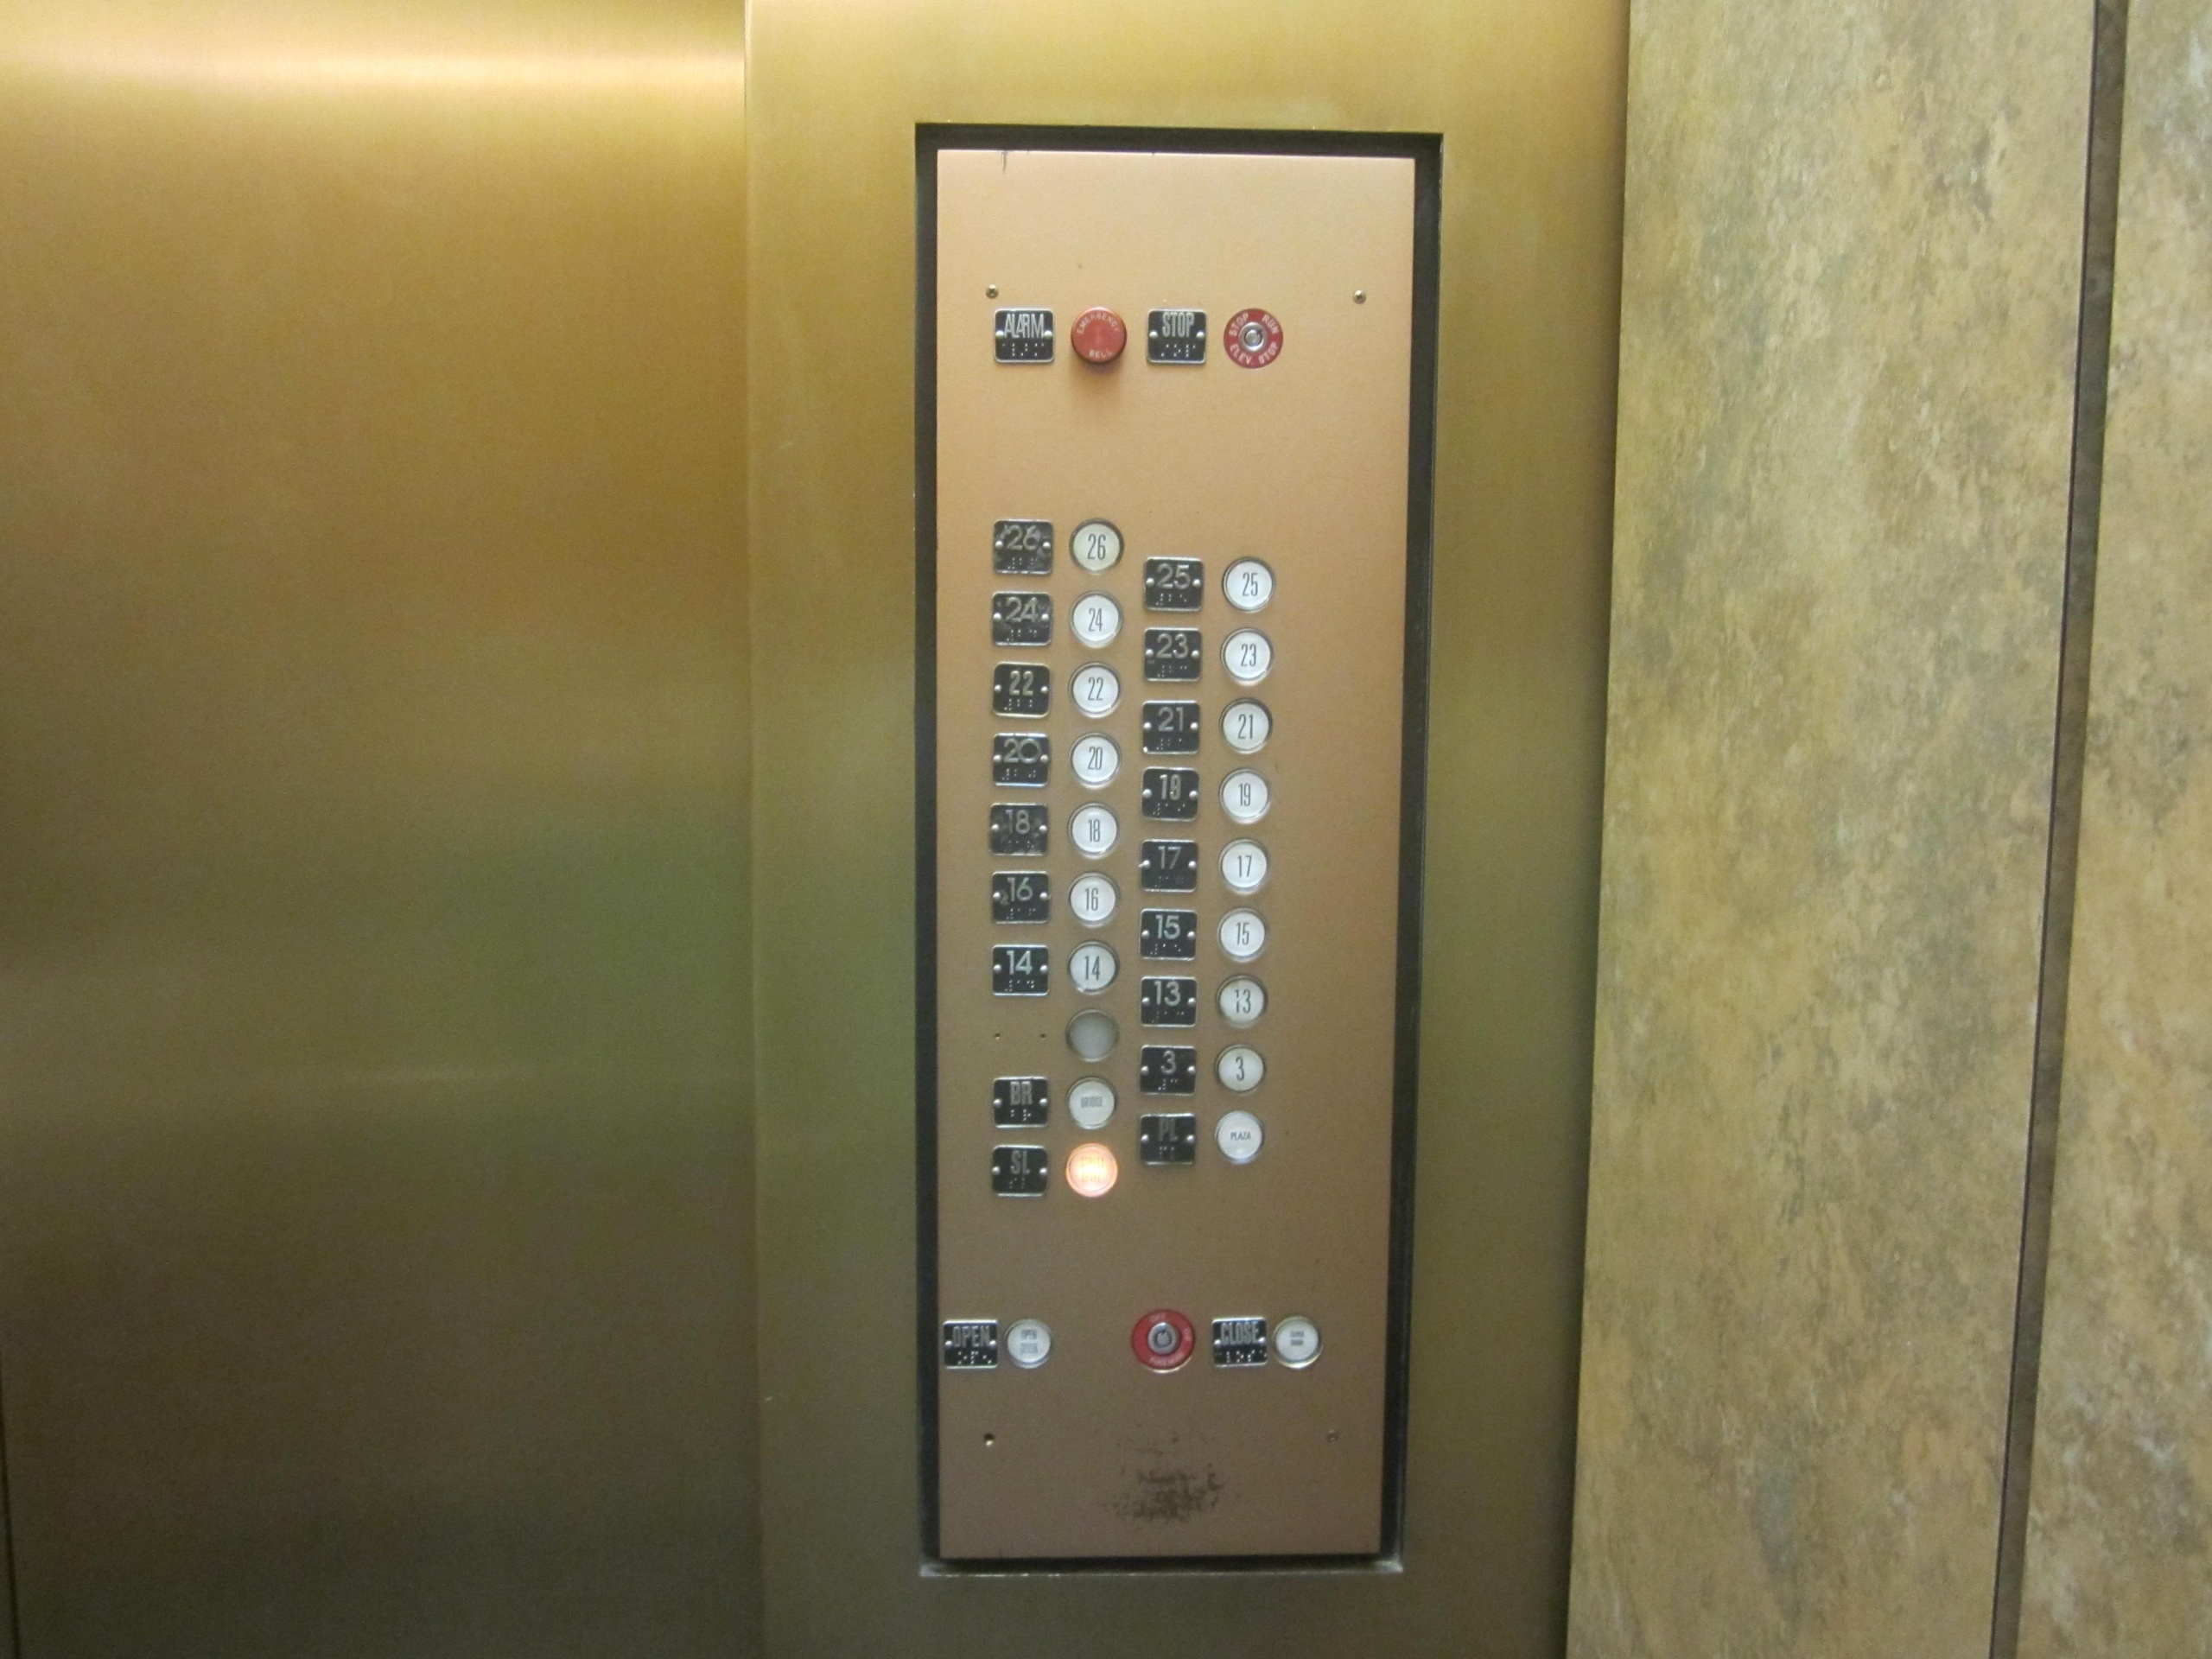13: (1139, 978, 1198, 1030), (1217, 974, 1268, 1030)
14: (991, 943, 1047, 999), (1066, 939, 1118, 997)
15: (1137, 906, 1198, 962), (1216, 908, 1268, 965)
16: (991, 871, 1052, 925), (1064, 873, 1120, 931)
17: (1137, 838, 1202, 896), (1219, 838, 1270, 894)
18: (989, 803, 1052, 857), (1068, 805, 1120, 861)
19: (1139, 767, 1202, 824), (1216, 769, 1273, 824)
20: (991, 732, 1052, 791), (1068, 732, 1122, 788)
21: (1139, 699, 1202, 756), (1219, 699, 1273, 756)
22: (991, 660, 1054, 718), (1071, 662, 1122, 720)
23: (1141, 626, 1204, 685), (1221, 627, 1275, 683)
24: (991, 591, 1054, 648), (1068, 591, 1123, 650)
25: (1143, 558, 1205, 613), (1221, 558, 1275, 612)
26: (991, 519, 1055, 577), (1069, 518, 1123, 575)
3: (1139, 1044, 1197, 1094), (1216, 1044, 1266, 1096)
BR: (989, 1075, 1047, 1129)
PL: (1139, 1112, 1198, 1166)
SL: (991, 1145, 1050, 1201)
empty: (1064, 1006, 1120, 1063)
keyhole: (1132, 1309, 1195, 1371), (1223, 308, 1282, 369)
text: (1071, 308, 1127, 364)
text_alarm: (993, 308, 1054, 364)
text_blur: (1062, 1140, 1118, 1199), (1270, 1316, 1324, 1370), (1001, 1316, 1054, 1371)
text_bridge: (1066, 1075, 1116, 1129)
text_close: (1205, 1314, 1271, 1371)
text_open: (941, 1321, 1000, 1368)
text_plaza: (1212, 1110, 1264, 1164)
text_stop: (1146, 310, 1207, 364)
